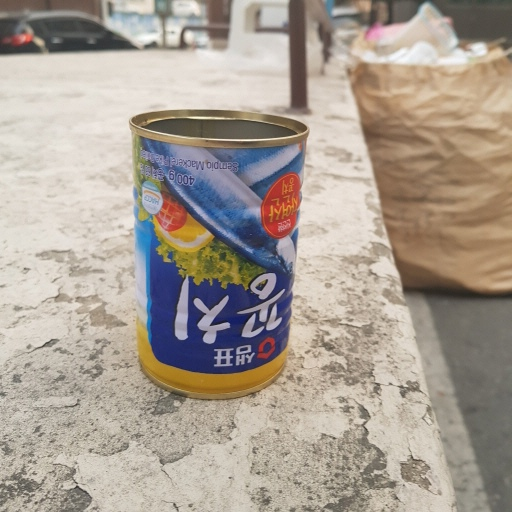Metal_1: (126, 106, 309, 403)
